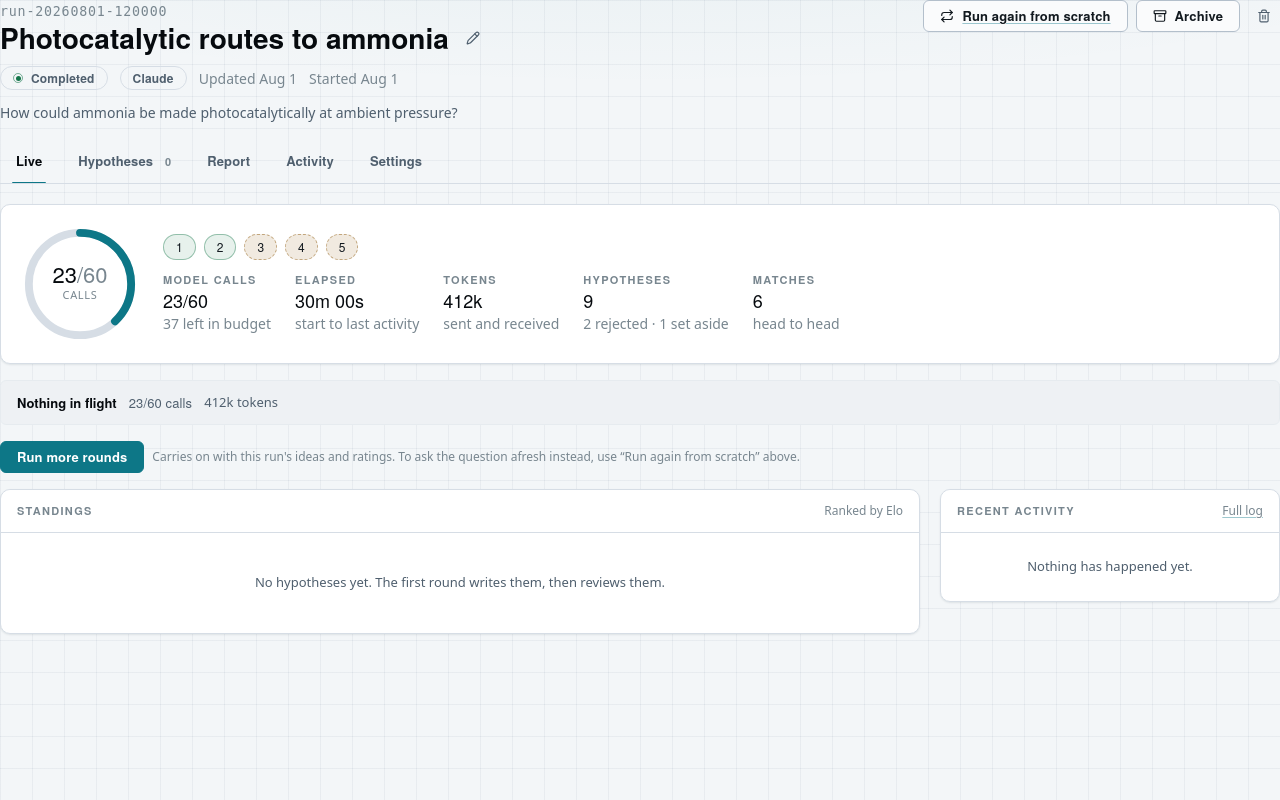
Scenario: running more rounds of a finished run › the cost ceiling an older run was launched with › says the ceiling is what stopped the run when the run is past it
Click the button "Run more rounds" at (72, 457), box [0,441,144,473]
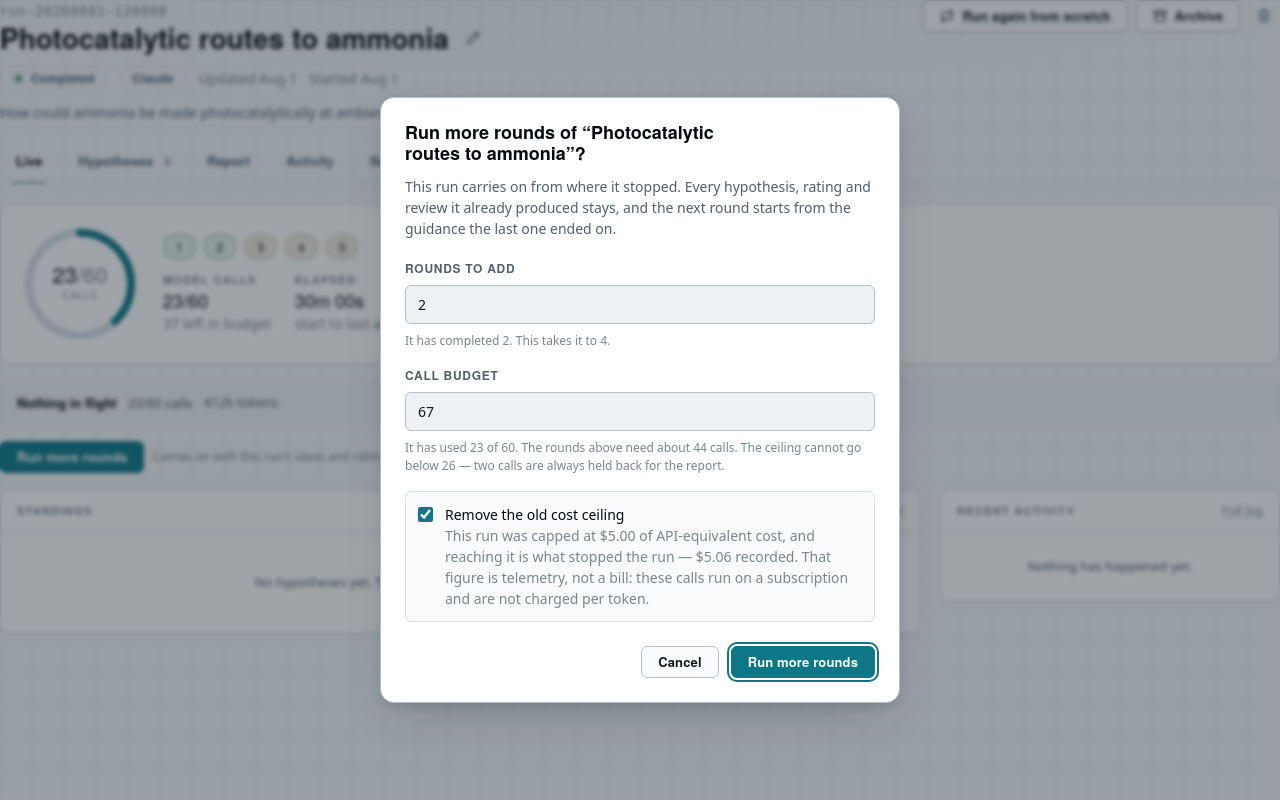
Check: the dialog shows "reaching it is what stopped the run — $5.06 recorded", box [445,526,848,608]
